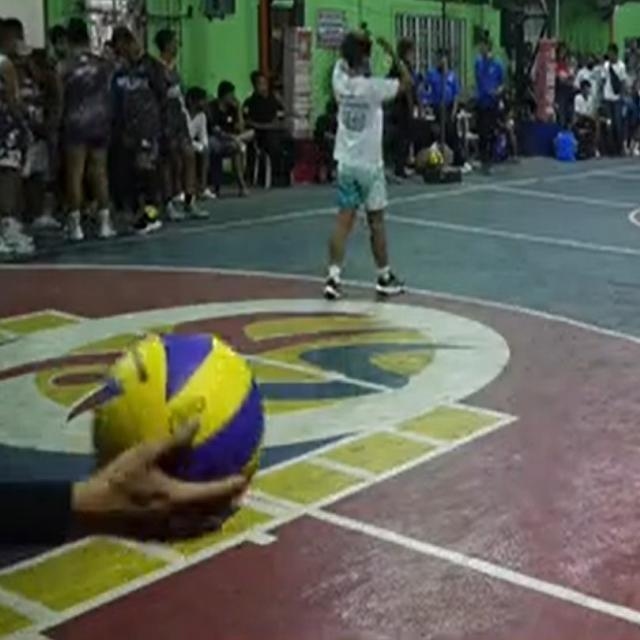volleyball: (93, 328, 266, 500)
